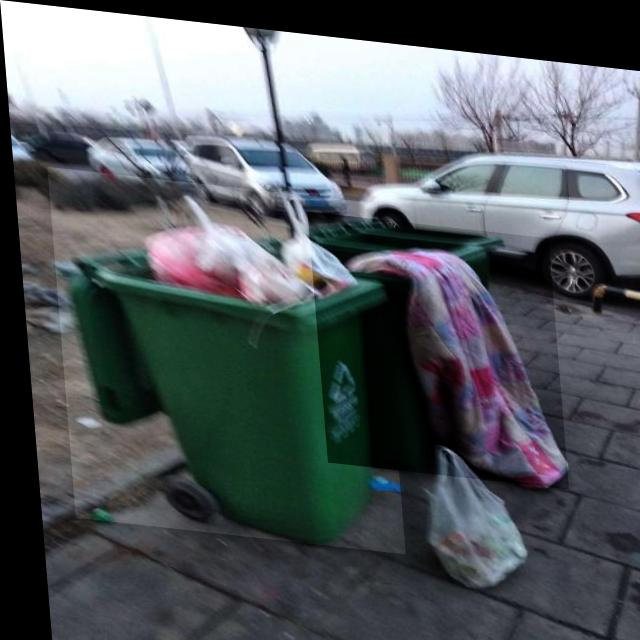garbage: (407, 431, 521, 588)
overflow: (45, 166, 397, 546), (305, 205, 561, 477)
